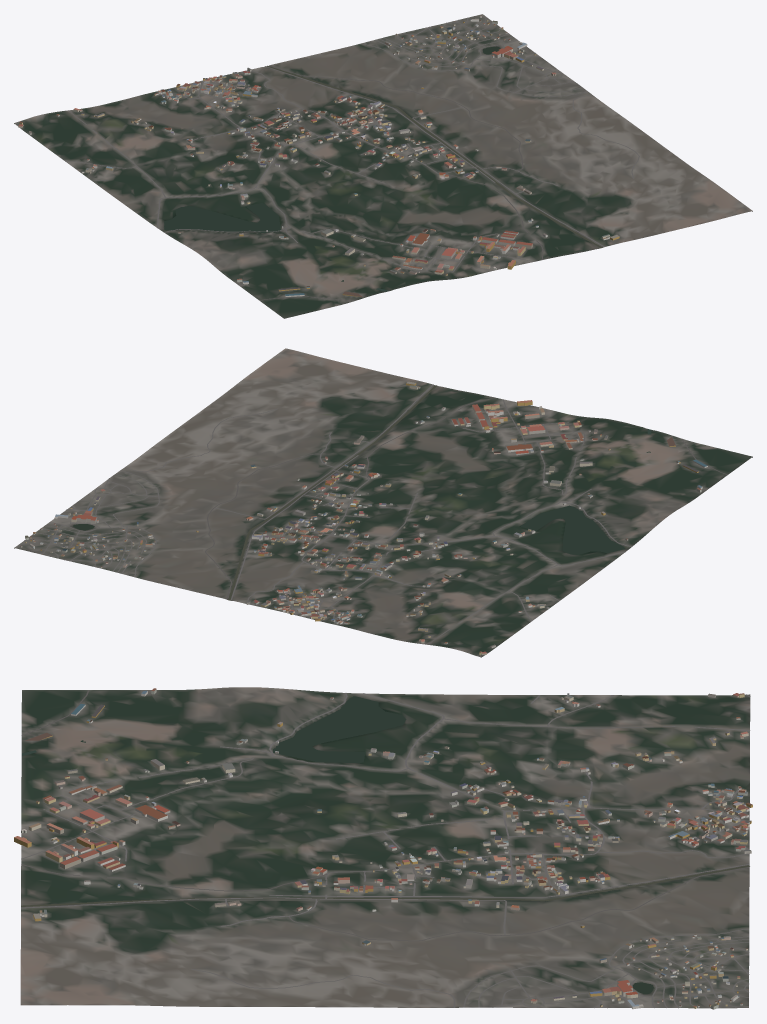
3 views of the same model, one above another, from view 1: azimuth 30°, elevation 25°; view 2: azimuth 150°, elevation 25°; view 3: azimuth 270°, elevation 25° (orthographic). The views are drawn at different scales.
Visible parts, largest first — view 1: ground, buildings, roads, water; view 2: ground, buildings, roads, water; view 3: ground, buildings, roads, water.
Boxes of the visible parts, x1,y1,x2,y2 form: ground: (14,14,752,318); buildings: (18,15,619,296); roads: (15,14,639,300); water: (164,46,602,291); ground: (14,348,752,657); buildings: (20,381,707,655); roads: (16,384,727,656); water: (73,385,651,600); ground: (20,687,750,1008); buildings: (14,688,752,1009); roads: (21,690,750,1008); water: (21,696,749,994).
Size of the model in its own units: 1407 by 35.73 by 1422.
